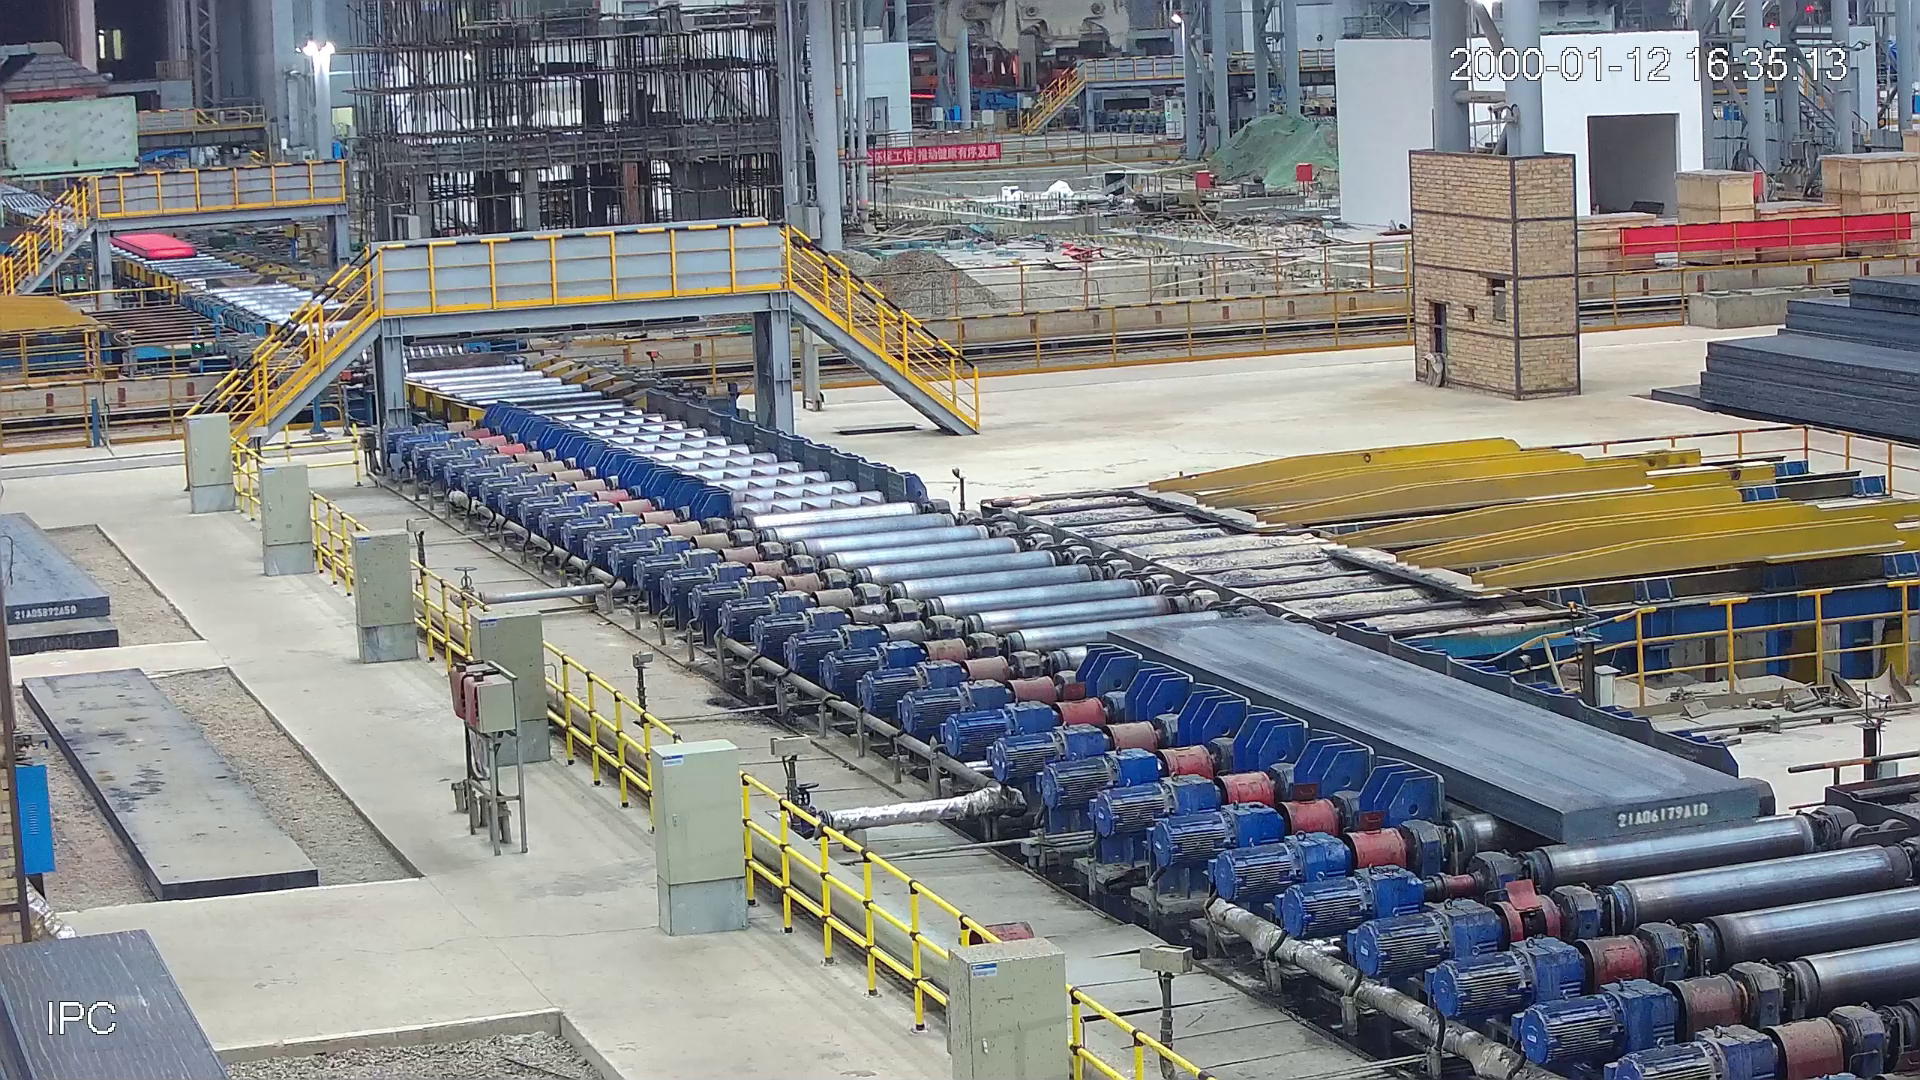slab: (1105, 621, 1763, 847), (109, 233, 194, 258)
